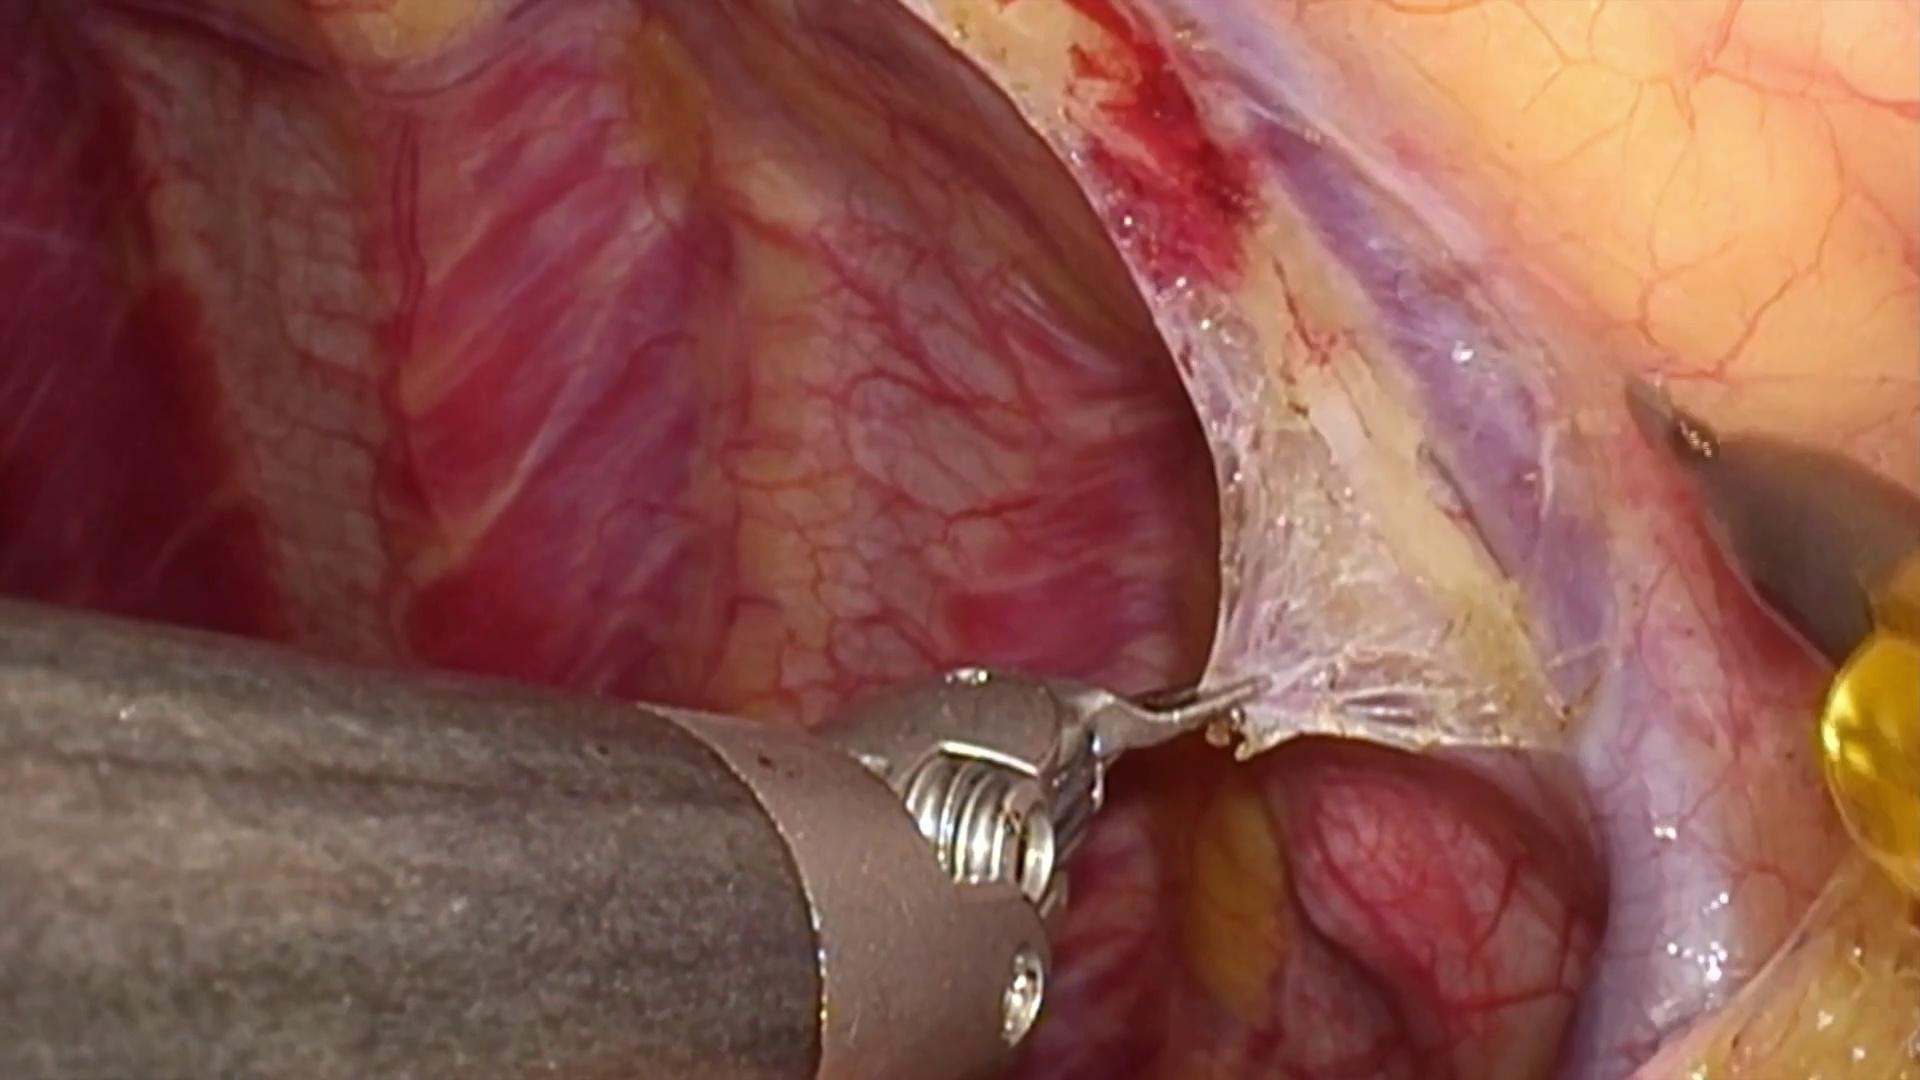Cautery_Spatula: (1611, 364, 1920, 684)
Debakey: (1038, 658, 1280, 785)
